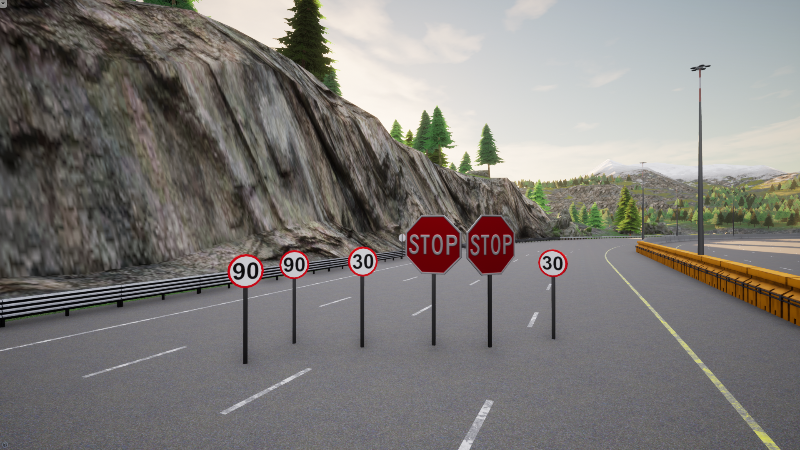fast: (227, 255, 263, 288), (280, 250, 309, 279)
slow: (347, 246, 378, 277), (538, 249, 568, 278)
stop: (405, 215, 462, 274), (467, 214, 517, 275)
